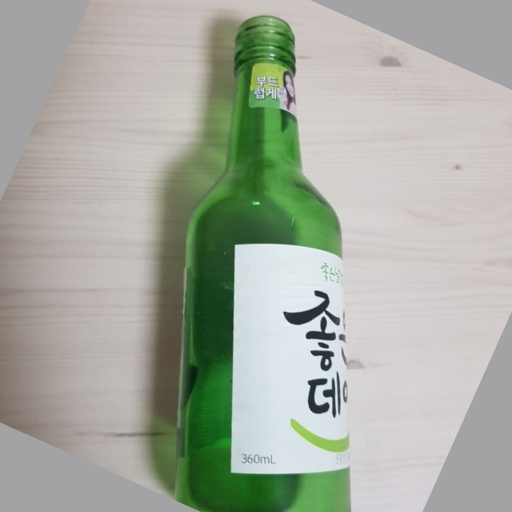Glass_0: (169, 16, 353, 512)
